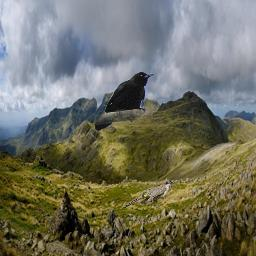Crow: (94, 72, 154, 131)
Cuckoo: (122, 181, 173, 208)
